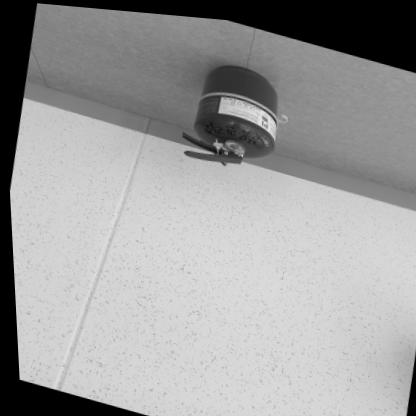FE: (173, 49, 285, 177)
